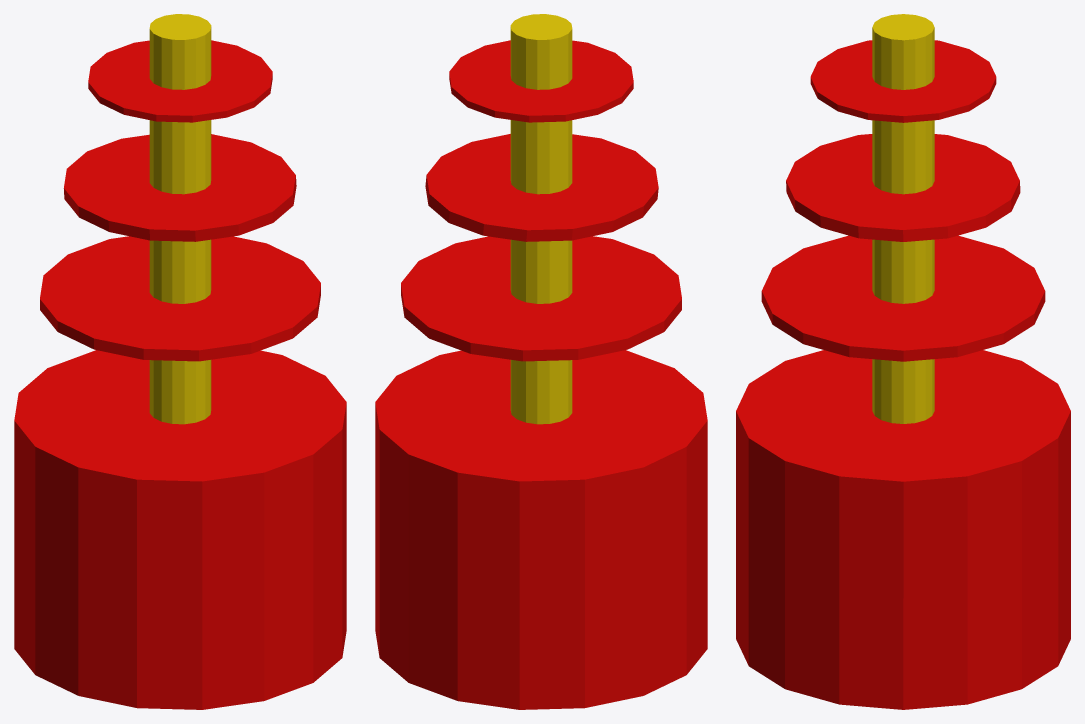
The model's file is circle_shaped_shelf_asset.fbx.
The picture shows the model from 3 angles, left to right: view 1: azimuth 30°, elevation 25°; view 2: azimuth 150°, elevation 25°; view 3: azimuth 270°, elevation 25°; orthographic projection.
Visible parts, largest first — view 1: Circle; view 2: Circle; view 3: Circle.
Part boxes in pixels (bbox=[...]): Circle: bbox=[14, 14, 346, 709]; Circle: bbox=[375, 14, 707, 709]; Circle: bbox=[736, 14, 1070, 709].
Bounding box in the file's own units: 200 × 403 × 200.
